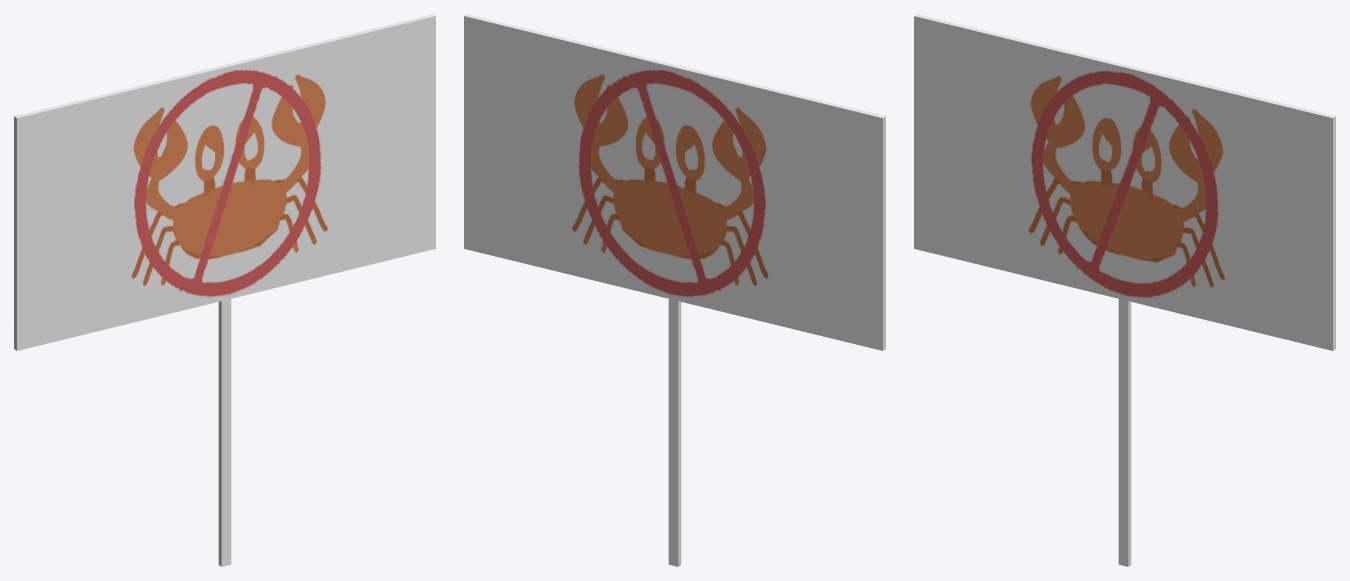
Rendered from Sign-AntiCrab.fbx.
The picture shows the model from 3 angles, left to right: view 1: azimuth 30°, elevation 25°; view 2: azimuth 150°, elevation 25°; view 3: azimuth 330°, elevation 25°; orthographic projection.
Visible parts, largest first — view 1: sign; view 2: sign; view 3: sign.
Boxes of the visible parts, left/top/right/bottom form: sign: left=14, top=14, right=435, bottom=566; sign: left=464, top=14, right=885, bottom=566; sign: left=914, top=14, right=1335, bottom=566.
Bounding box in the file's own units: 84.92 × 96.6 × 1.
